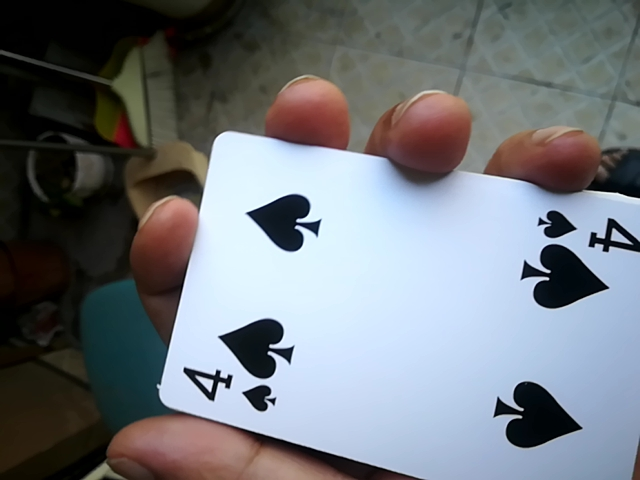ht 4: (139, 126, 640, 480)
